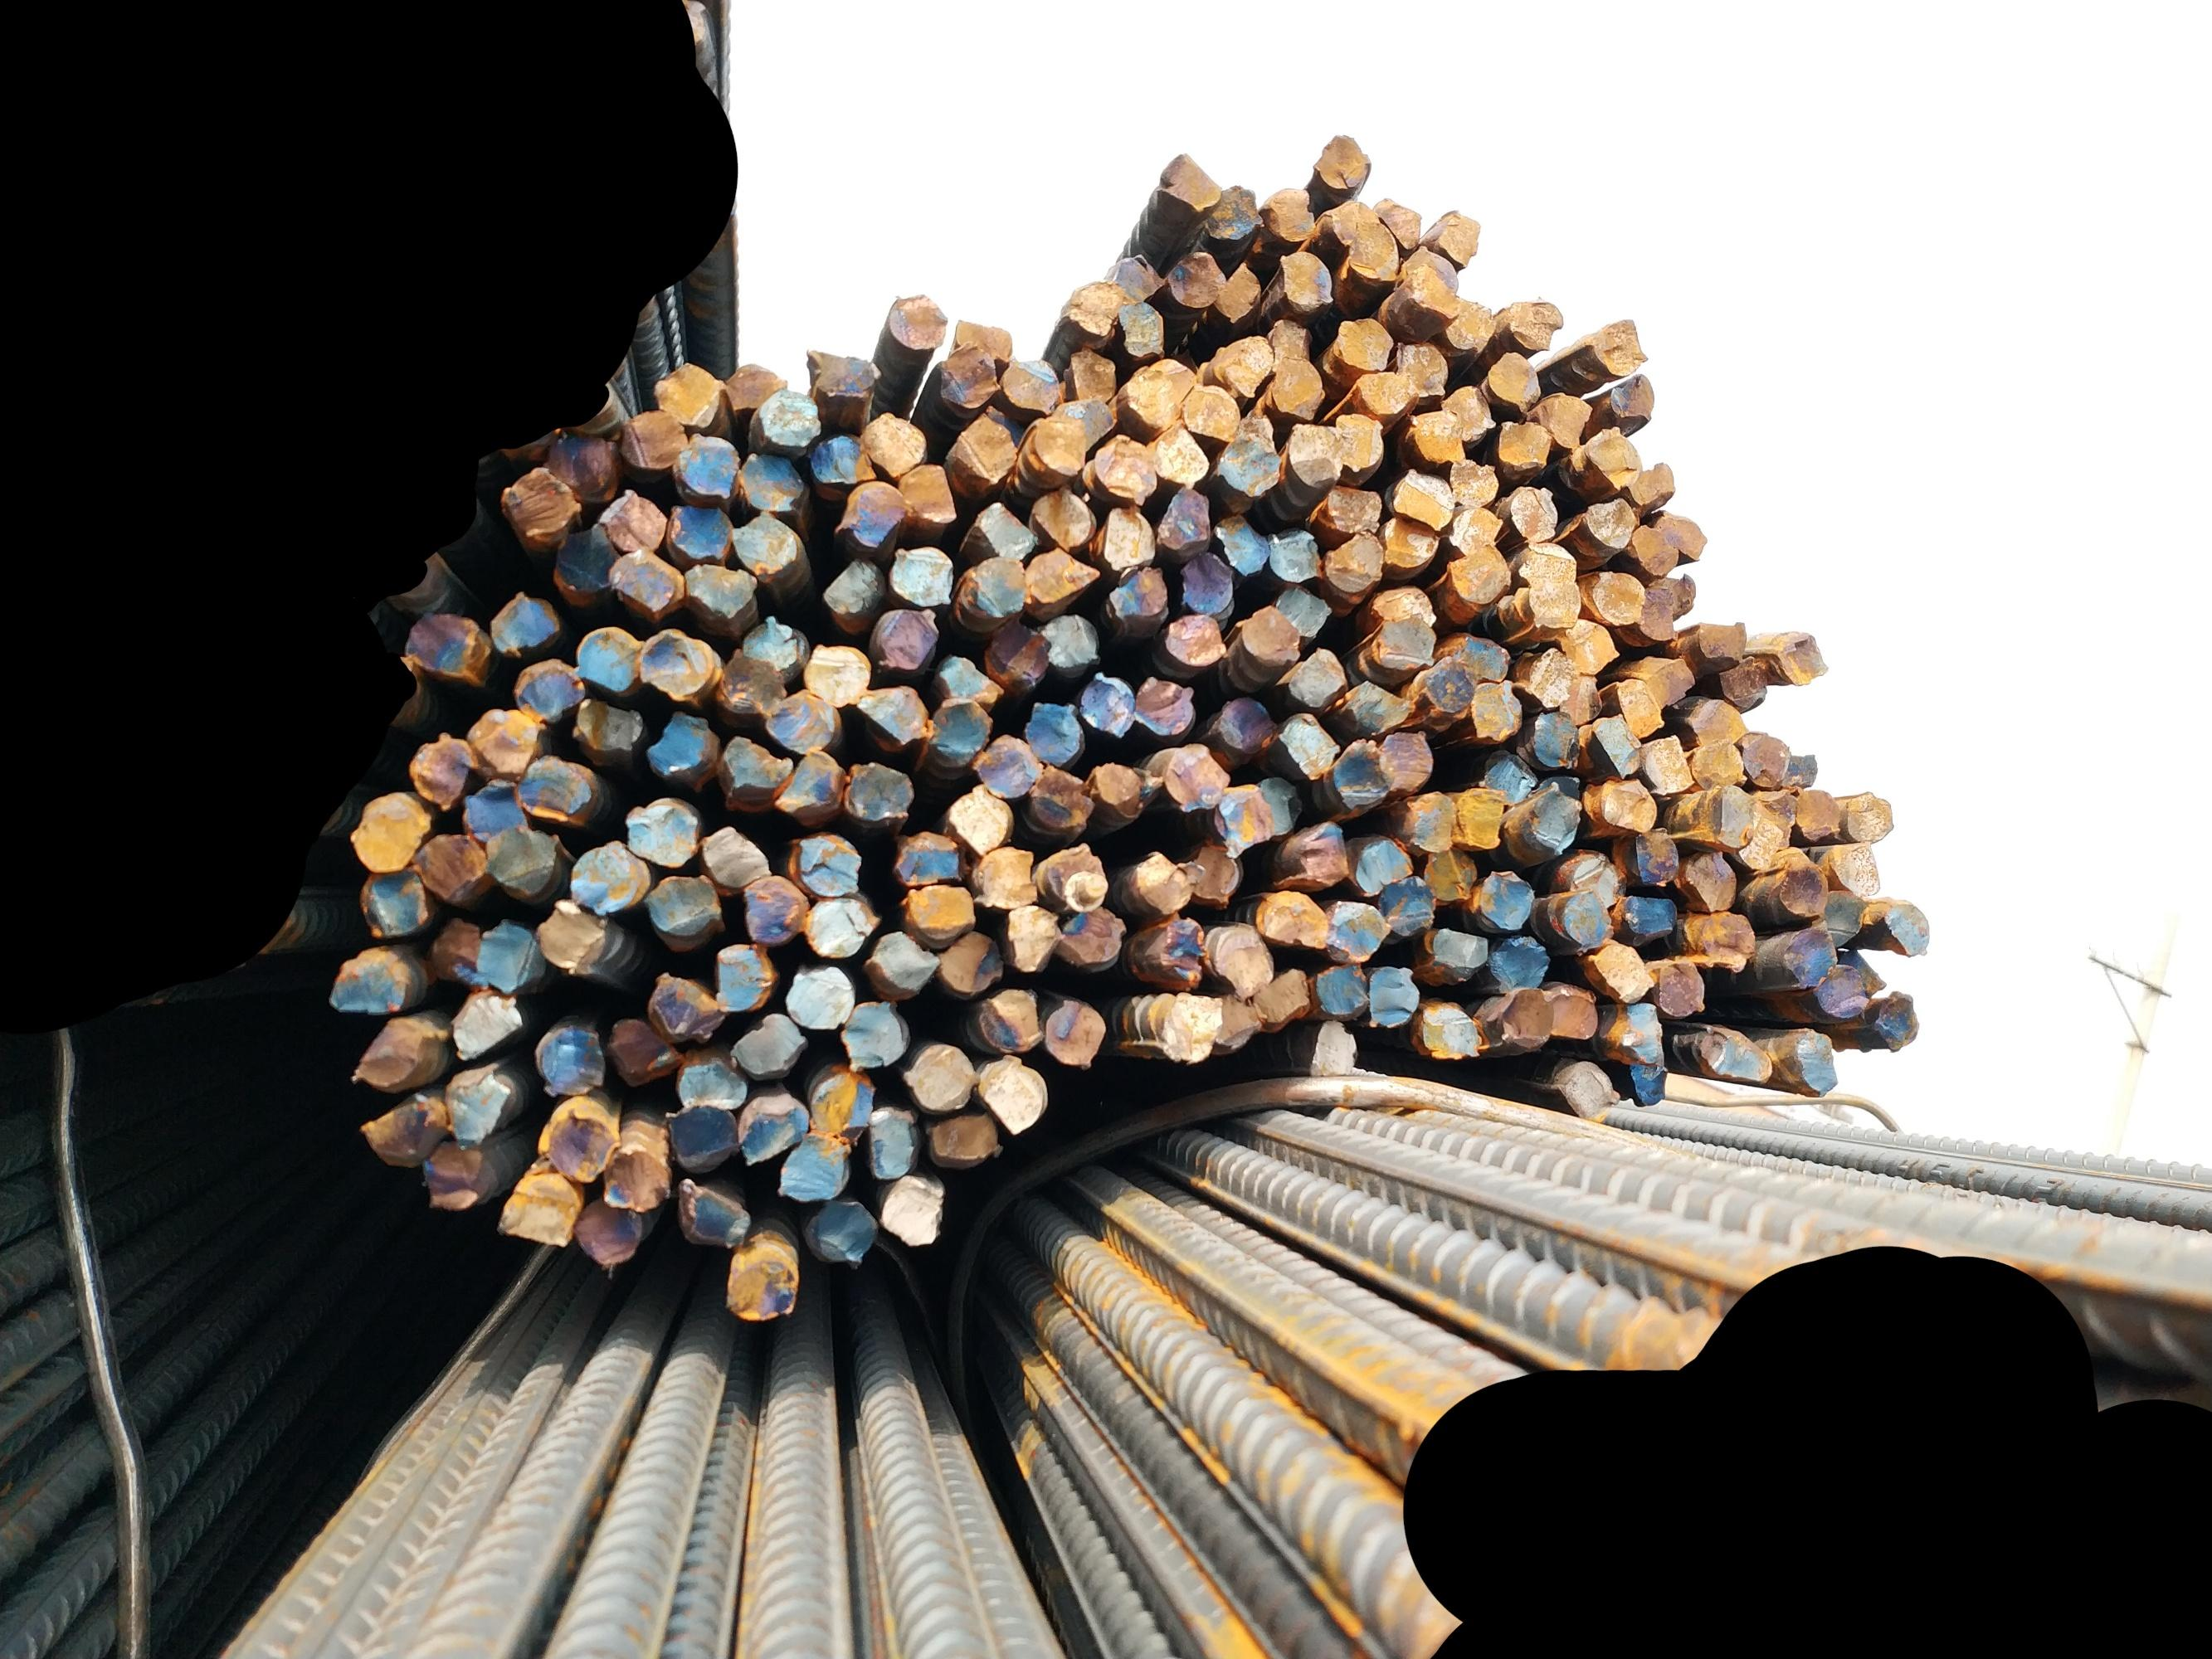bar: (490, 1164, 580, 1249), (352, 1094, 451, 1171), (347, 788, 429, 875), (565, 836, 648, 917), (530, 1018, 608, 1103), (460, 701, 546, 777), (535, 1108, 622, 1183), (502, 462, 584, 540), (345, 1018, 432, 1091), (720, 1244, 798, 1324), (601, 1011, 682, 1089), (467, 920, 549, 997), (478, 823, 561, 897), (899, 1037, 978, 1115), (401, 608, 485, 681), (410, 828, 488, 904), (640, 626, 718, 702), (772, 742, 849, 821), (638, 866, 722, 938), (354, 864, 429, 943), (619, 795, 699, 868), (516, 751, 596, 824), (436, 1066, 511, 1143), (734, 1098, 812, 1171), (774, 1131, 852, 1204), (547, 429, 626, 502), (406, 730, 478, 810), (605, 544, 687, 613), (950, 404, 1020, 486), (533, 899, 608, 974), (1150, 988, 1224, 1065), (675, 1176, 753, 1248), (444, 990, 525, 1060), (551, 519, 621, 599), (420, 1143, 497, 1215), (727, 1006, 804, 1077), (1327, 735, 1396, 814), (661, 1103, 741, 1171), (805, 1195, 879, 1269), (739, 870, 809, 946), (800, 892, 877, 962), (974, 1056, 1044, 1133), (763, 687, 840, 756), (321, 958, 410, 1018), (572, 1195, 643, 1269), (873, 1178, 945, 1251), (715, 648, 788, 720), (654, 356, 725, 429), (837, 476, 910, 547), (779, 962, 854, 1032), (1156, 742, 1231, 812), (647, 971, 723, 1039), (507, 657, 586, 723), (856, 681, 934, 748), (1210, 781, 1276, 859), (619, 403, 690, 474), (947, 782, 1016, 856), (669, 429, 743, 498), (786, 829, 861, 897), (640, 709, 715, 777), (840, 760, 915, 828), (727, 504, 795, 579), (1253, 890, 1328, 958), (708, 936, 774, 1012), (837, 1002, 908, 1072), (572, 622, 641, 694), (854, 408, 926, 477), (695, 823, 770, 889), (795, 640, 870, 706), (901, 877, 978, 941), (926, 695, 995, 765), (804, 1068, 875, 1136), (934, 340, 1001, 413), (457, 777, 532, 842), (718, 732, 795, 795), (872, 929, 940, 999), (870, 605, 940, 673), (983, 624, 1053, 692), (1023, 763, 1093, 831), (1089, 432, 1157, 502), (976, 983, 1042, 1054), (593, 486, 664, 552), (967, 847, 1039, 913), (1042, 997, 1109, 1068), (967, 734, 1041, 798), (1213, 929, 1278, 1002), (861, 1103, 919, 1185), (1020, 697, 1088, 765), (1234, 605, 1304, 671), (1210, 690, 1281, 755), (596, 1150, 671, 1211), (668, 1054, 750, 1110), (1536, 765, 1588, 852), (680, 561, 757, 620), (1023, 545, 1100, 605), (1028, 484, 1095, 552), (1142, 422, 1210, 488), (934, 927, 1004, 992), (892, 457, 957, 526), (734, 450, 805, 512), (757, 385, 828, 448), (1055, 904, 1126, 967), (1288, 816, 1351, 887), (891, 828, 964, 889), (572, 695, 647, 755), (1279, 706, 1339, 781), (804, 345, 880, 403), (1175, 552, 1241, 619), (1093, 504, 1157, 572), (1327, 894, 1391, 962), (1469, 870, 1537, 934), (1149, 917, 1204, 993), (887, 544, 953, 608), (1131, 673, 1196, 739), (1042, 845, 1107, 911), (1349, 835, 1415, 899), (1217, 429, 1283, 493), (1157, 150, 1225, 213), (967, 552, 1028, 622), (1079, 669, 1137, 742), (821, 558, 885, 622), (1281, 647, 1346, 711), (490, 591, 556, 653), (664, 498, 730, 561), (971, 498, 1037, 561), (1248, 965, 1311, 1032), (1414, 1002, 1480, 1065), (1398, 788, 1461, 854), (1131, 850, 1199, 911), (1337, 680, 1414, 734), (1694, 1028, 1771, 1082), (1063, 277, 1133, 336), (1363, 960, 1421, 1032), (1123, 361, 1180, 432), (1286, 418, 1344, 490), (929, 1110, 1002, 1166), (804, 429, 879, 483), (1492, 985, 1557, 1047), (1025, 416, 1089, 479), (1389, 467, 1454, 530), (1518, 645, 1579, 711), (1375, 725, 1435, 793), (1154, 483, 1213, 551), (1211, 509, 1271, 577), (1583, 423, 1642, 491), (1445, 544, 1513, 603), (1374, 875, 1436, 938), (1417, 842, 1478, 906), (1325, 528, 1386, 592), (1555, 1060, 1619, 1121), (1698, 910, 1759, 974), (425, 915, 485, 981), (739, 613, 805, 673), (1487, 934, 1553, 993), (1590, 943, 1656, 1002), (1089, 760, 1157, 817), (933, 650, 1002, 706), (884, 291, 948, 350), (1424, 925, 1489, 985), (1173, 382, 1238, 441), (1309, 132, 1374, 192), (1780, 925, 1839, 990), (1265, 521, 1323, 587), (1372, 610, 1438, 667), (1581, 317, 1647, 375), (1002, 903, 1058, 971), (1184, 843, 1239, 911), (1584, 709, 1640, 777), (1415, 655, 1475, 718), (1168, 246, 1227, 308), (1035, 613, 1102, 669), (1469, 674, 1525, 741), (1218, 333, 1274, 399), (1159, 613, 1227, 667), (1520, 789, 1579, 850), (1274, 249, 1333, 310), (1330, 312, 1391, 371), (1551, 887, 1609, 950), (1527, 706, 1583, 770), (1271, 354, 1327, 418), (1534, 387, 1590, 451), (1001, 354, 1060, 413), (1436, 295, 1496, 354), (1874, 899, 1935, 957), (1827, 838, 1884, 899), (1105, 563, 1168, 619), (1684, 849, 1738, 913), (1206, 988, 1259, 1054), (1454, 784, 1504, 852), (1478, 746, 1537, 803), (1112, 300, 1170, 359), (1203, 183, 1262, 240), (1525, 575, 1583, 634), (1558, 617, 1618, 674), (1586, 568, 1644, 627), (1598, 774, 1658, 831), (1809, 960, 1869, 1018), (1635, 653, 1696, 709), (1609, 676, 1665, 737), (1790, 1028, 1839, 1098), (1407, 408, 1469, 462), (725, 361, 791, 411), (1333, 410, 1384, 476), (1347, 216, 1398, 282), (1370, 579, 1438, 627), (1349, 368, 1417, 416), (1440, 382, 1496, 441), (1403, 261, 1457, 322), (1776, 857, 1830, 918), (1642, 732, 1694, 795), (1705, 784, 1755, 849), (1306, 1021, 1361, 1079), (1494, 416, 1551, 472), (1579, 495, 1637, 551), (1773, 631, 1829, 688), (1276, 579, 1330, 638), (1548, 981, 1598, 1044), (1569, 847, 1619, 910), (1211, 260, 1262, 322), (1255, 772, 1304, 836), (1687, 697, 1752, 746), (1396, 338, 1449, 397), (1652, 957, 1705, 1016), (1815, 885, 1867, 945), (1689, 737, 1748, 789), (1741, 730, 1794, 789), (1323, 484, 1384, 535), (1447, 631, 1510, 680), (1693, 615, 1748, 669), (1314, 962, 1367, 1019), (1504, 300, 1562, 352), (1382, 516, 1440, 568), (1487, 349, 1537, 408), (1508, 483, 1558, 542), (1632, 519, 1680, 580), (953, 315, 1016, 362), (1065, 345, 1119, 399), (1447, 453, 1501, 507), (1842, 788, 1896, 842), (1602, 373, 1659, 423), (1621, 892, 1679, 943), (1055, 396, 1114, 444), (1435, 207, 1480, 270), (1754, 786, 1799, 849), (1403, 242, 1457, 295), (1264, 186, 1314, 242), (1651, 511, 1706, 561), (1264, 315, 1313, 373), (1625, 457, 1673, 514), (1105, 251, 1164, 298), (1632, 826, 1679, 885), (1618, 1002, 1665, 1061), (1449, 502, 1503, 552), (1736, 812, 1783, 870), (1633, 582, 1677, 643), (1719, 657, 1769, 709), (1792, 786, 1841, 840), (1323, 200, 1381, 246), (1874, 992, 1919, 1049), (1142, 354, 1201, 397), (1518, 540, 1578, 584), (1553, 671, 1602, 723), (1651, 573, 1700, 624), (1835, 946, 1884, 997), (1375, 199, 1422, 251), (1625, 1060, 1670, 1107), (1780, 751, 1820, 789)
